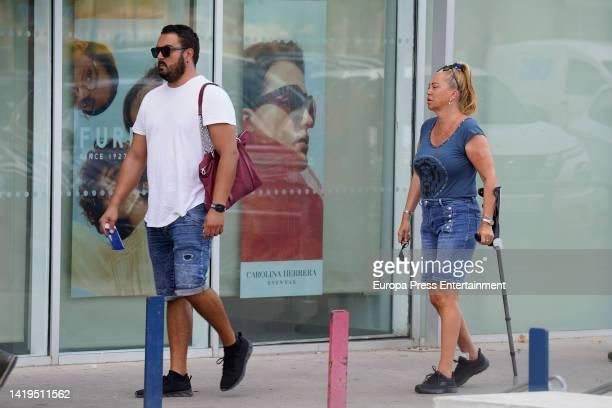crutches: (397, 62, 522, 394)
